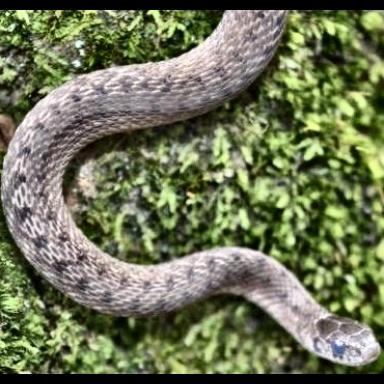snake: (1, 10, 378, 369)
